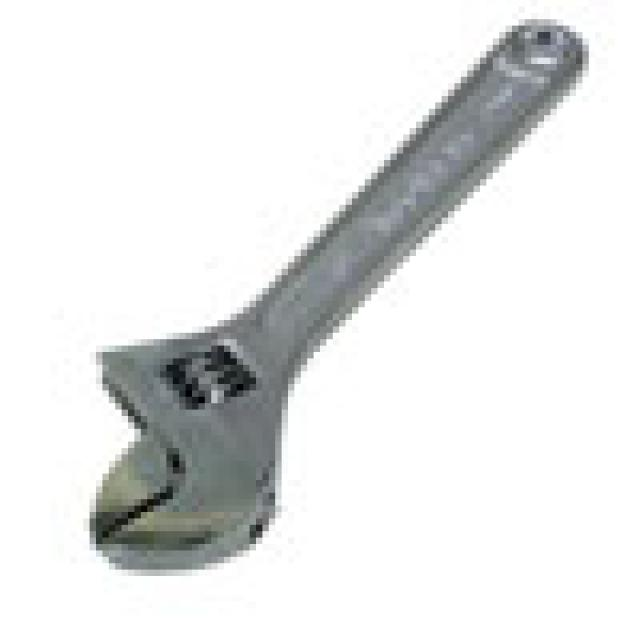wrench: (36, 0, 608, 640)
